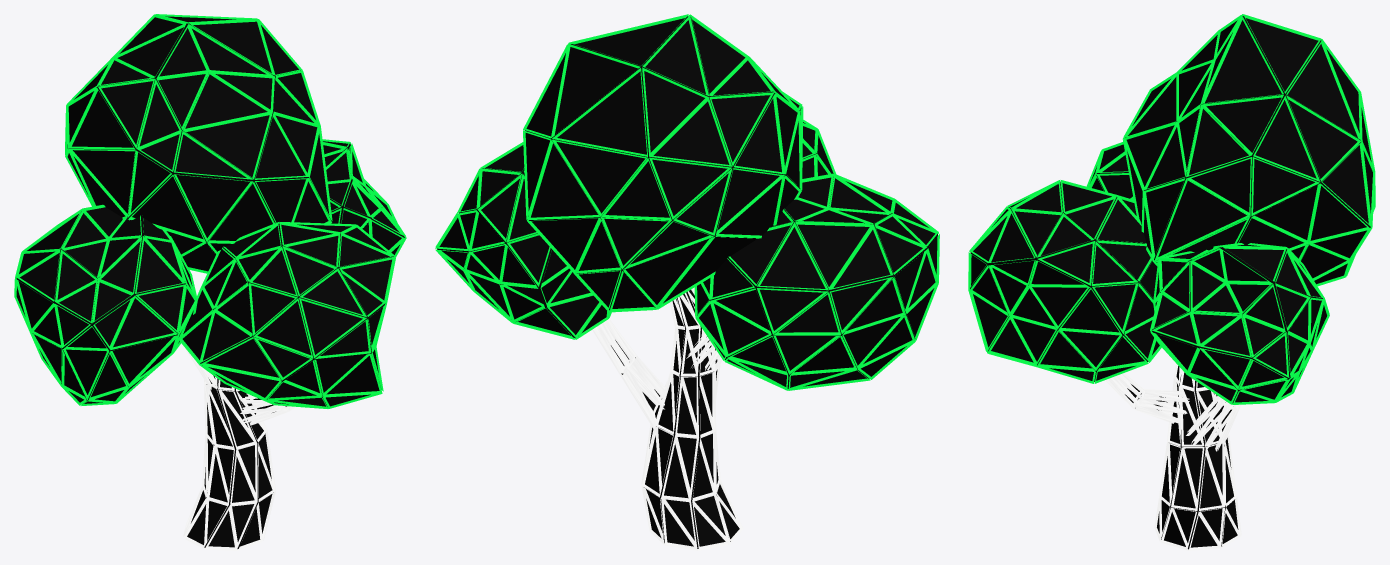
File: Tree_Wire_Green.glb
The picture shows the model from 3 angles, left to right: view 1: azimuth 30°, elevation 25°; view 2: azimuth 150°, elevation 25°; view 3: azimuth 270°, elevation 25°; orthographic projection. The views are drawn at different scales.
Visible parts, largest first — view 1: Cylinder_2, Cylinder_2.001; view 2: Cylinder_2, Cylinder_2.001; view 3: Cylinder_2, Cylinder_2.001.
Part boxes in pixels (x1,y1,x2,y2): Cylinder_2: (16,16,404,548); Cylinder_2.001: (14,14,406,550); Cylinder_2: (437,16,937,548); Cylinder_2.001: (435,14,939,550); Cylinder_2: (970,16,1372,549); Cylinder_2.001: (968,14,1375,550).
Bounding box in the file's own units: 6.14 × 7.42 × 5.36.
